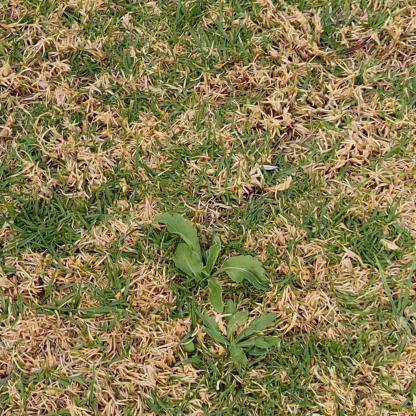Weeds: (151, 211, 271, 316), (191, 300, 281, 375)
